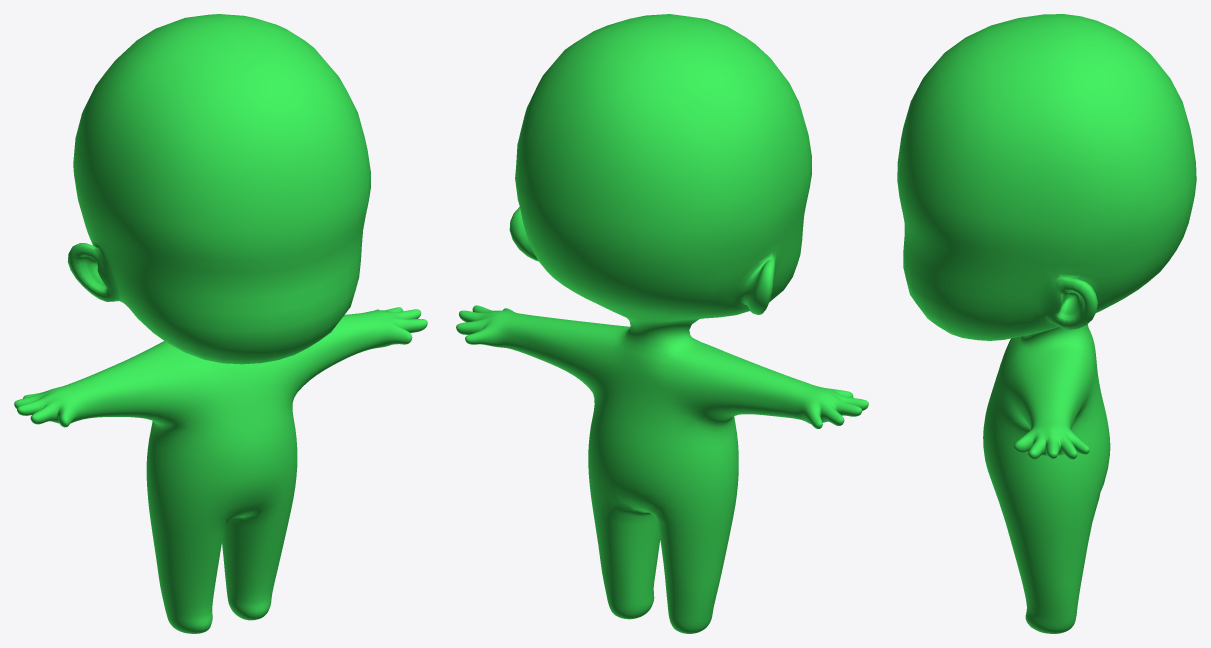
The model's file is monroe hair pink.glb.
3 renders of one model, left to right at view 1: azimuth 30°, elevation 25°; view 2: azimuth 150°, elevation 25°; view 3: azimuth 270°, elevation 25°, orthographic.
Visible parts, largest first — view 1: pCube35_lambert1_0.002; view 2: pCube35_lambert1_0.002; view 3: pCube35_lambert1_0.002.
Boxes of the visible parts, left/top/right/bottom form: pCube35_lambert1_0.002: left=14, top=14, right=427, bottom=633; pCube35_lambert1_0.002: left=456, top=14, right=868, bottom=633; pCube35_lambert1_0.002: left=897, top=14, right=1196, bottom=633.
Size of the model in its own units: 1.72 by 2.42 by 1.12.
